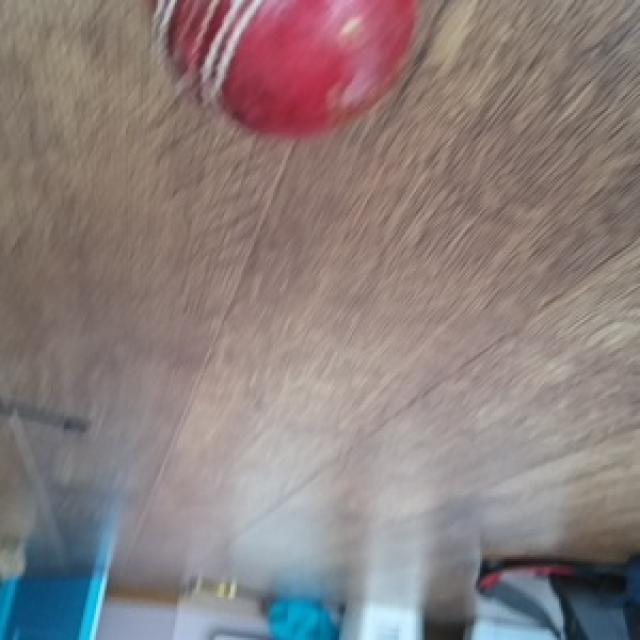ball: (151, 0, 444, 141)
